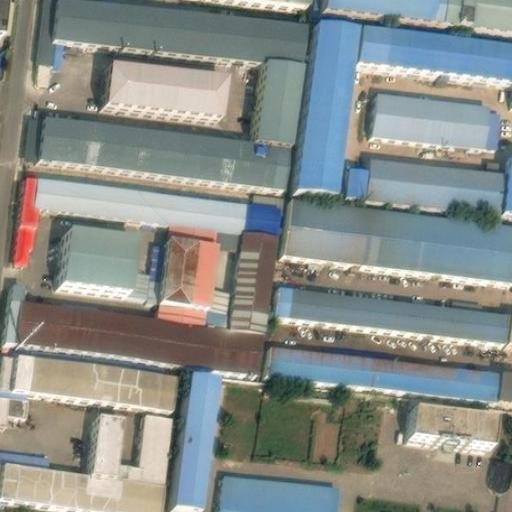building: (13, 169, 280, 257), (2, 278, 264, 367), (24, 105, 294, 181), (0, 403, 174, 512), (285, 194, 512, 275), (268, 337, 512, 396), (278, 280, 512, 336), (298, 11, 361, 183), (347, 150, 507, 209), (357, 17, 512, 73), (53, 228, 160, 296), (109, 53, 233, 111), (372, 85, 499, 141), (161, 216, 216, 316), (170, 384, 212, 512), (219, 467, 338, 512), (229, 224, 276, 323), (253, 52, 305, 139), (413, 395, 503, 436), (325, 0, 449, 16), (205, 281, 233, 319), (0, 441, 52, 461), (501, 151, 512, 210), (214, 221, 240, 243)
